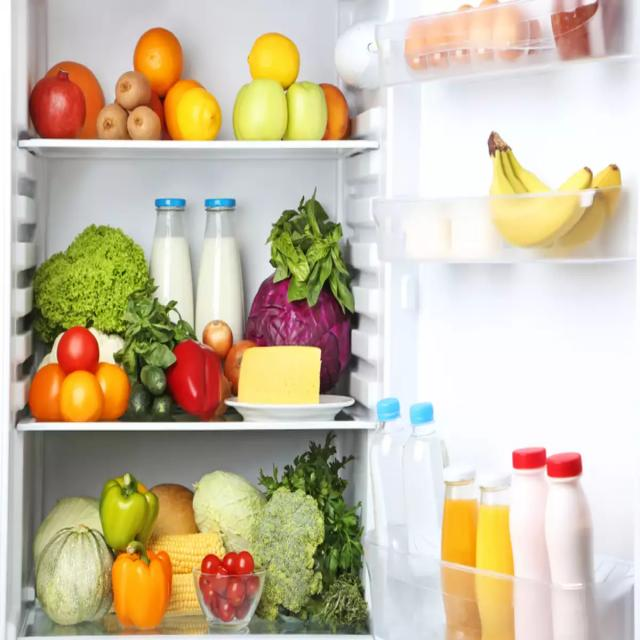eggs: (403, 0, 542, 67)
pepper: (111, 541, 172, 632), (168, 337, 224, 420), (100, 473, 158, 551)
tomatoes: (199, 552, 259, 623)
yogurt: (543, 452, 596, 640), (509, 447, 549, 640)
